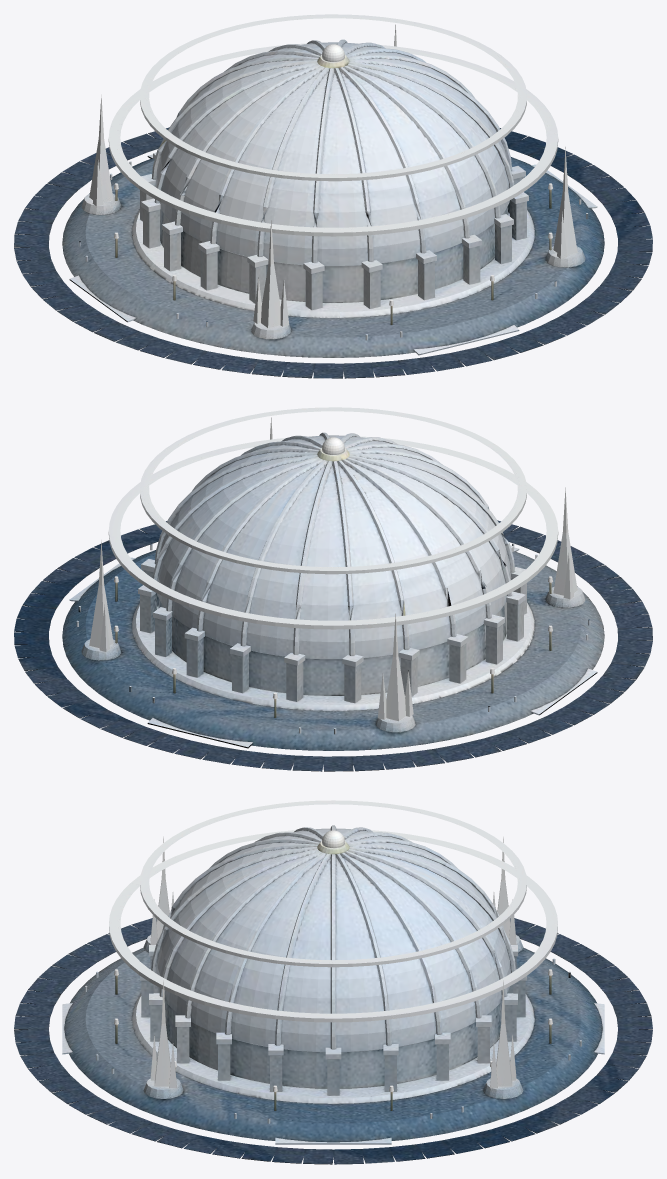
The model's file is ether_dome.glb.
3 views of the same model, one above another, from view 1: azimuth 30°, elevation 25°; view 2: azimuth 150°, elevation 25°; view 3: azimuth 270°, elevation 25° (orthographic).
Visible parts, largest first — view 1: props_dome, site_ground, props_field, props_lights; view 2: props_dome, site_ground, props_field, props_lights; view 3: props_dome, site_ground, props_field, props_lights.
Part boxes in pixels (x1,y1,x2,y2): props_dome: [132, 39, 534, 317]; site_ground: [14, 127, 652, 378]; props_field: [81, 14, 585, 339]; props_lights: [114, 183, 552, 324]; props_dome: [132, 432, 534, 710]; site_ground: [14, 520, 652, 771]; props_field: [81, 407, 585, 732]; props_lights: [114, 576, 552, 717]; props_dome: [132, 825, 534, 1103]; site_ground: [14, 918, 652, 1164]; props_field: [109, 800, 557, 1098]; props_lights: [114, 969, 552, 1110].
Bounding box in the file's own units: 165 × 56.58 × 165.
Materials: 4 (4 with a texture image).
